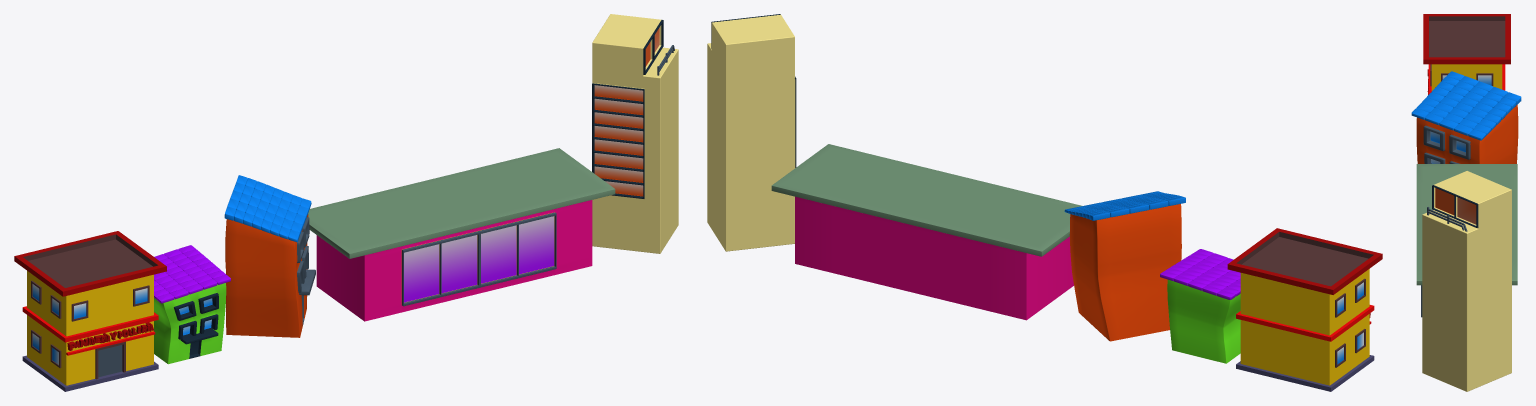
The model's file is Edificios.fbx.
3 views of the same model, side by side, from view 1: azimuth 30°, elevation 25°; view 2: azimuth 150°, elevation 25°; view 3: azimuth 270°, elevation 25° (orthographic). The views are drawn at different scales.
Parts seen in each view (by area): view 1: edificio4, edificio5, edificio1, edificio3, edificio2; view 2: edificio4, edificio5, edificio1, edificio3, edificio2; view 3: edificio5, edificio3, edificio1, edificio4.
Part boxes in pixels (x1,y1,x2,y2): edificio4: (308, 148, 615, 321); edificio5: (592, 14, 678, 253); edificio1: (14, 231, 166, 391); edificio3: (224, 175, 315, 337); edificio2: (154, 245, 230, 364); edificio4: (771, 144, 1082, 320); edificio5: (707, 14, 796, 251); edificio1: (1227, 228, 1382, 391); edificio3: (1064, 191, 1185, 341); edificio2: (1160, 249, 1240, 363); edificio5: (1422, 171, 1511, 391); edificio3: (1411, 71, 1521, 163); edificio1: (1423, 14, 1510, 94); edificio4: (1416, 164, 1517, 317).
Bounding box in the file's own units: 3952 × 1203 × 653.
Materials: 1 (1 with a texture image).
